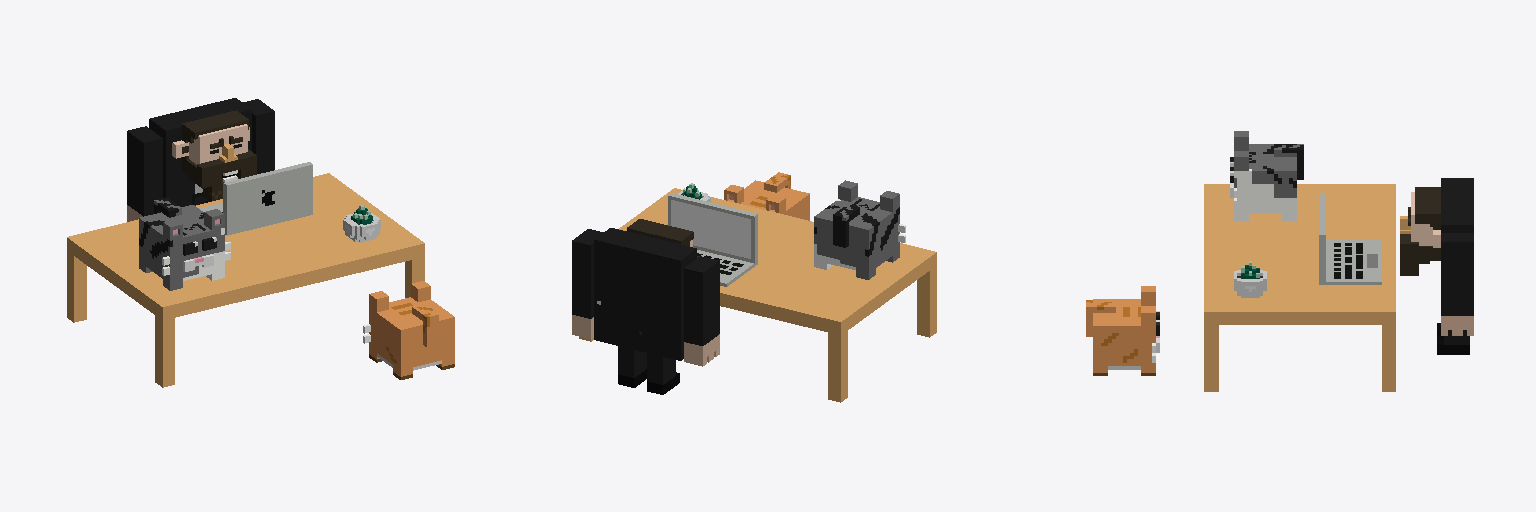
The picture shows the model from 3 angles: view 1: azimuth 30°, elevation 25°; view 2: azimuth 150°, elevation 25°; view 3: azimuth 270°, elevation 25°; orthographic projection.
Parts seen in each view (by area): view 1: object 1; view 2: object 1; view 3: object 1.
Boxes of the visible parts, x1,y1,x2,y2 form: object 1: [67, 98, 454, 387]; object 1: [572, 172, 936, 402]; object 1: [1086, 131, 1473, 391].
Size of the model in its own units: 8.2 by 4.3 by 10.5.
Materials: 1 (1 with a texture image).